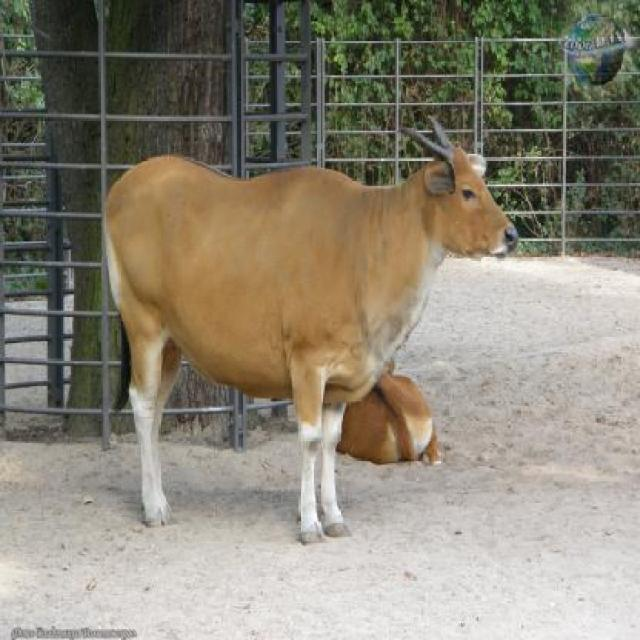Cow: (103, 118, 519, 544)
